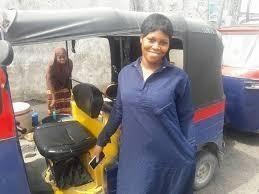keke: (3, 6, 235, 194)
